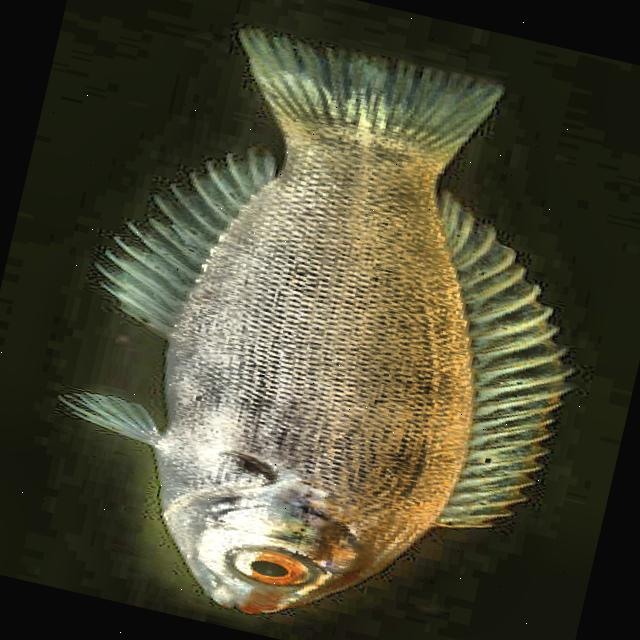fish: (17, 1, 639, 640)
